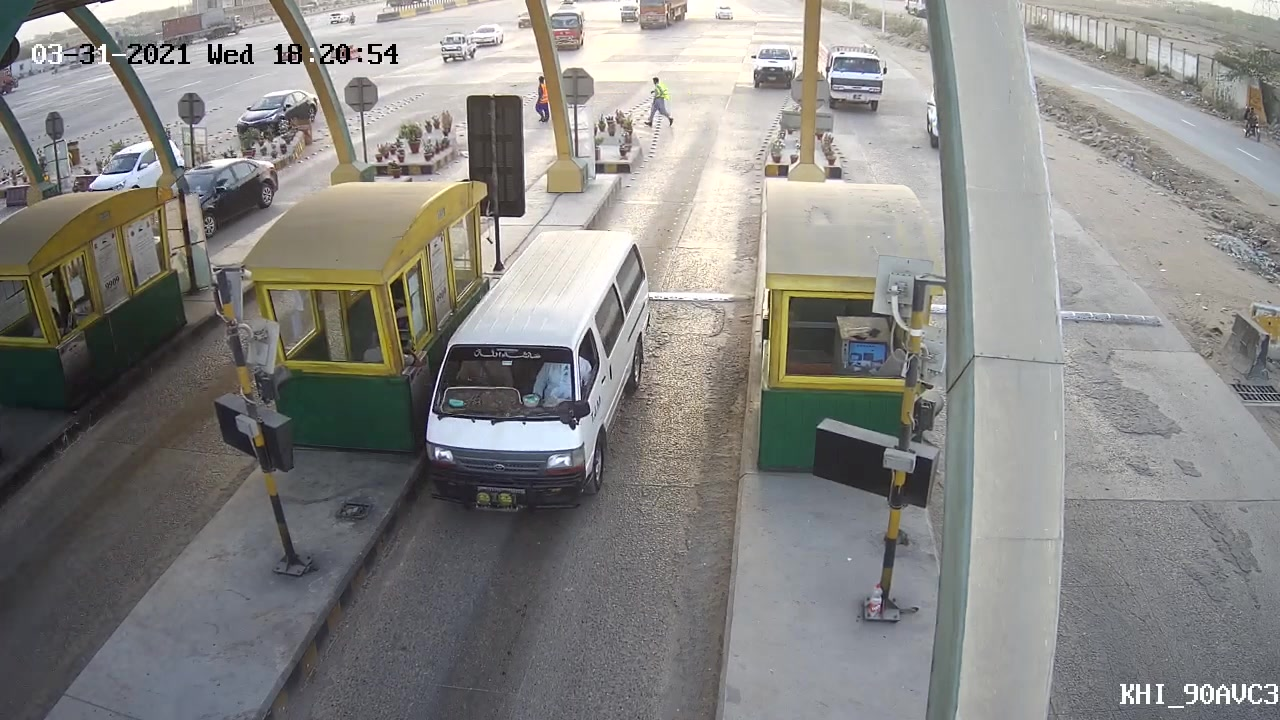F2: (420, 228, 660, 523)
